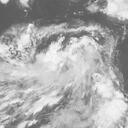cyclone: (44, 39, 94, 86)
